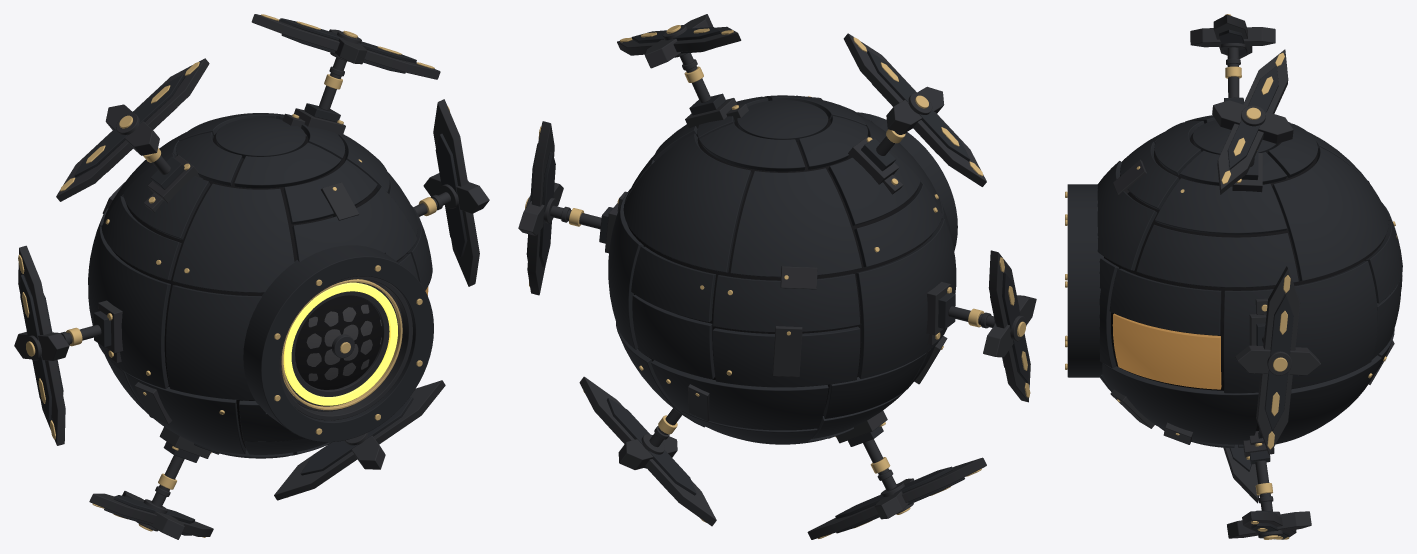
File: orb-full.glb
3 views of the same model, side by side, from view 1: azimuth 30°, elevation 25°; view 2: azimuth 150°, elevation 25°; view 3: azimuth 270°, elevation 25° (orthographic). The views are drawn at different scales.
Parts seen in each view (by area): view 1: Body, Fin_5, Fin_4, Fin_1, Fin_2, Fin_0, Fin_3; view 2: Body, Fin_5, Fin_2, Fin_4, Fin_1, Fin_3, Fin_0; view 3: Body, Fin_1, Fin_0, Fin_5, Fin_2, Fin_3.
Part boxes in pixels (<box>): Body: <box>61,57,450,507</box>; Fin_5: <box>56,58,209,201</box>; Fin_4: <box>14,245,69,445</box>; Fin_1: <box>423,99,489,286</box>; Fin_2: <box>274,380,445,500</box>; Fin_0: <box>251,14,440,79</box>; Fin_3: <box>89,491,213,539</box>; Body: <box>550,53,994,490</box>; Fin_5: <box>843,33,986,186</box>; Fin_2: <box>579,376,716,526</box>; Fin_4: <box>983,250,1036,402</box>; Fin_1: <box>518,121,563,295</box>; Fin_3: <box>807,457,986,539</box>; Fin_0: <box>617,14,741,68</box>; Body: <box>1065,47,1402,511</box>; Fin_1: <box>1235,266,1320,454</box>; Fin_0: <box>1212,49,1293,194</box>; Fin_5: <box>1190,14,1275,58</box>; Fin_2: <box>1227,510,1311,539</box>; Fin_3: <box>1223,444,1259,503</box>.
Bounding box in the file's own units: 3.16 × 3.22 × 2.04.
